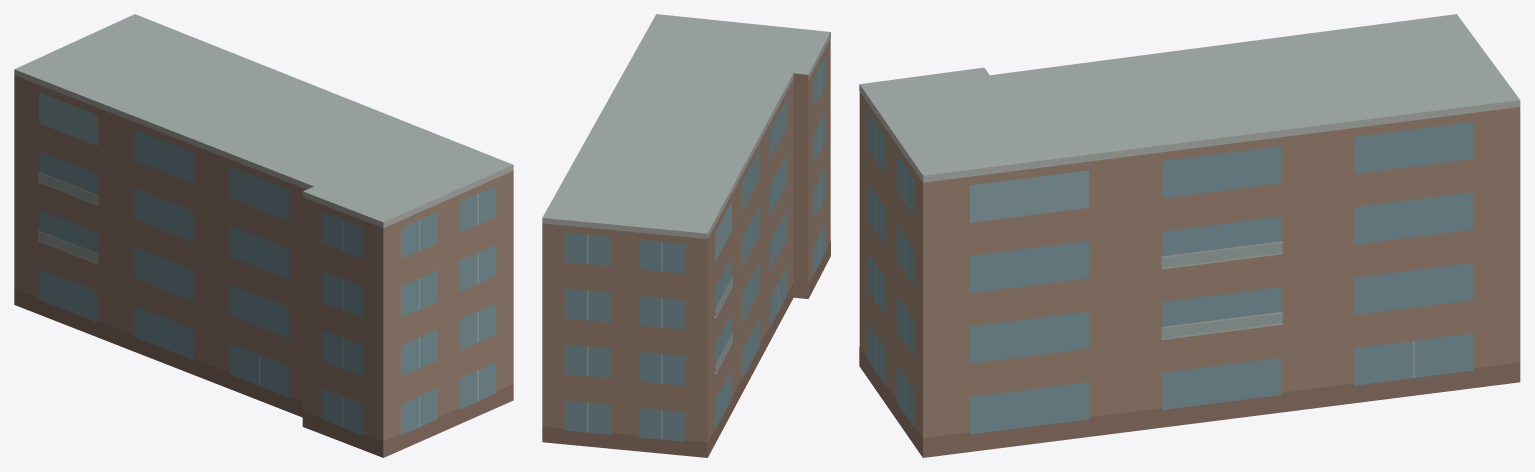
Rendered from survey-upis-32562355.glb.
The picture shows the model from 3 angles, left to right: view 1: azimuth 30°, elevation 25°; view 2: azimuth 150°, elevation 25°; view 3: azimuth 270°, elevation 25°; orthographic projection. The views are drawn at different scales.
Visible parts, largest first — view 1: survey-upis-32562355.tmp; view 2: survey-upis-32562355.tmp; view 3: survey-upis-32562355.tmp.
Boxes of the visible parts, left/top/right/bottom form: survey-upis-32562355.tmp: left=14, top=14, right=513, bottom=457; survey-upis-32562355.tmp: left=542, top=14, right=830, bottom=457; survey-upis-32562355.tmp: left=859, top=14, right=1520, bottom=457.
Size of the model in its own units: 12.31 by 10 by 21.24.
